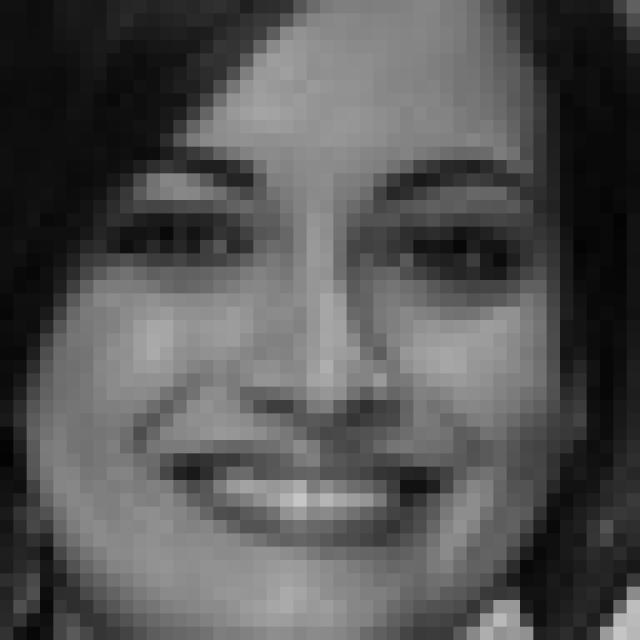happy: (90, 142, 547, 564)
